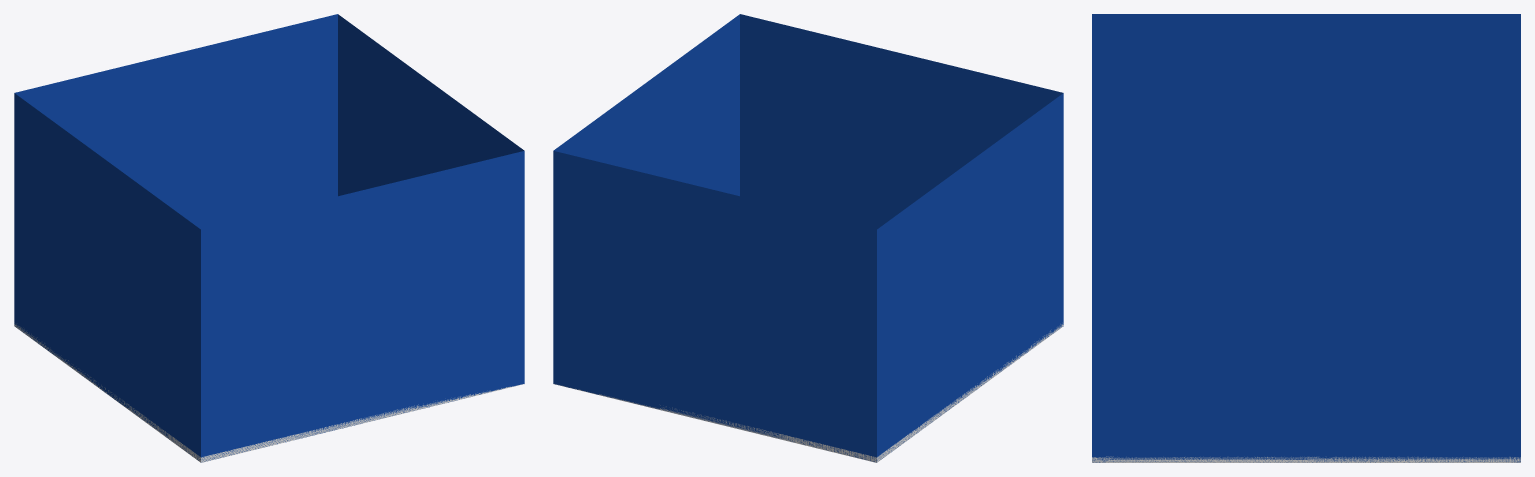
File: room.glb
3 renders of one model, left to right at view 1: azimuth 30°, elevation 25°; view 2: azimuth 150°, elevation 25°; view 3: azimuth 270°, elevation 25°, orthographic. The views are drawn at different scales.
Parts seen in each view (by area): view 1: Room, Baseboard.001; view 2: Room, Baseboard.001; view 3: Room, Baseboard.001.
Boxes of the visible parts, x1=… form: Room: x1=14, y1=14, x2=524, y2=462; Baseboard.001: x1=14, y1=324, x2=523, y2=462; Room: x1=553, y1=14, x2=1063, y2=462; Baseboard.001: x1=554, y1=324, x2=1063, y2=462; Room: x1=1092, y1=14, x2=1520, y2=462; Baseboard.001: x1=1092, y1=456, x2=1520, y2=462.
Bounding box in the file's own units: 184 × 127 × 184.
